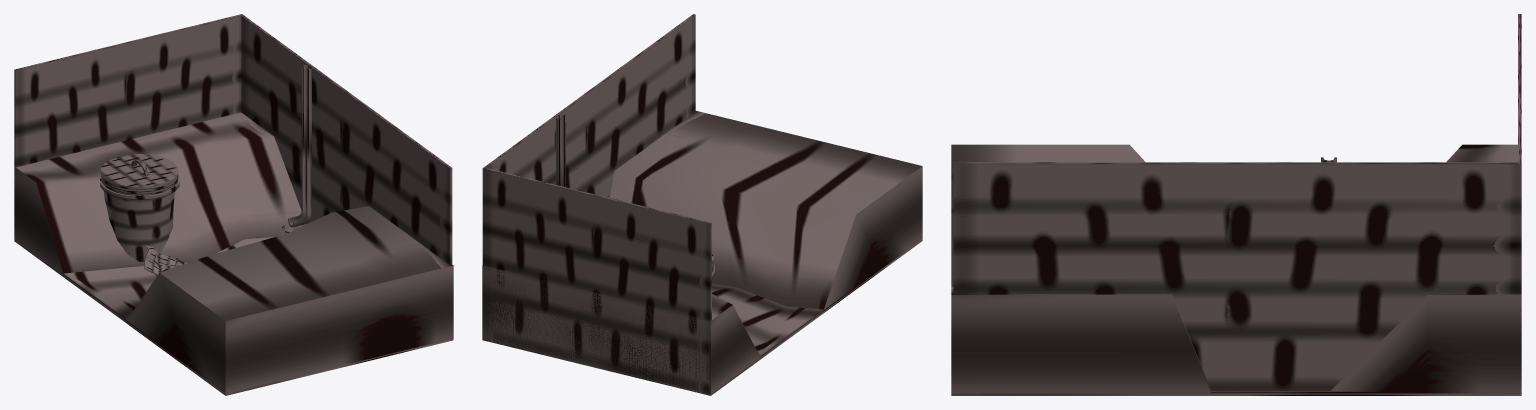
File: areas.obj
The picture shows the model from 3 angles, left to right: view 1: azimuth 30°, elevation 25°; view 2: azimuth 150°, elevation 25°; view 3: azimuth 270°, elevation 25°; orthographic projection. The views are drawn at different scales.
Parts seen in each view (by area): view 1: riverbank, back_alley; view 2: back_alley, riverbank; view 3: back_alley, riverbank.
Part boxes in pixels (box(x1,y1,x2,y2)): riverbank: box(14, 112, 453, 393); back_alley: box(14, 14, 453, 395); back_alley: box(482, 14, 922, 395); riverbank: box(482, 111, 922, 393); back_alley: box(951, 14, 1521, 395); riverbank: box(951, 144, 1521, 393).
Bounding box in the file's own units: 0.2779 × 0.2007 × 0.4461.
